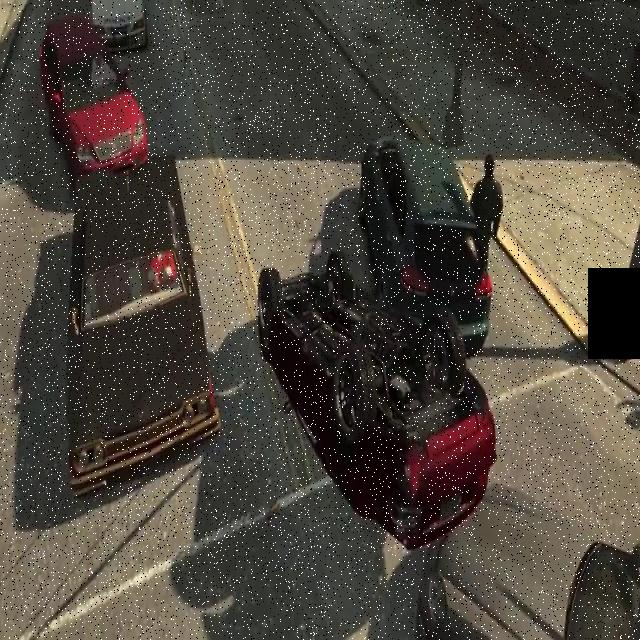severe: (256, 120, 497, 546)
